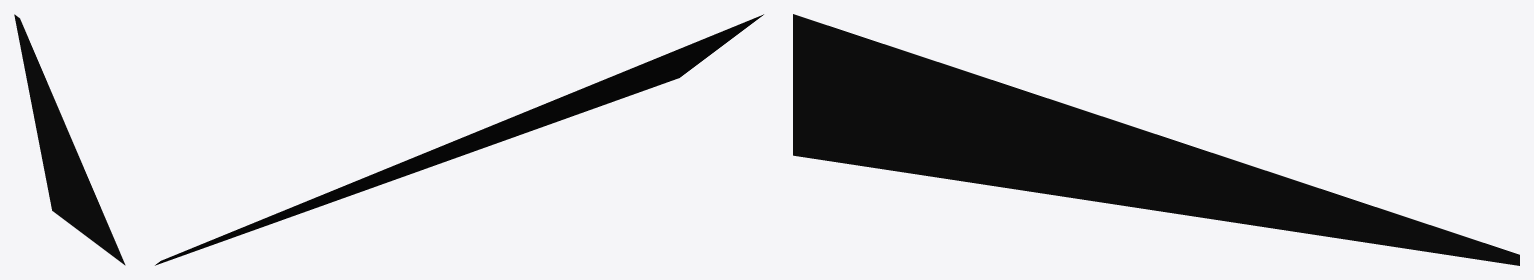
3 renders of one model, left to right at view 1: azimuth 30°, elevation 25°; view 2: azimuth 150°, elevation 25°; view 3: azimuth 270°, elevation 25°, orthographic. The views are drawn at different scales.
Size of the model in its own units: 1.51 by 0.4256 by 2.95.
Materials: 1 (1 with a texture image).
